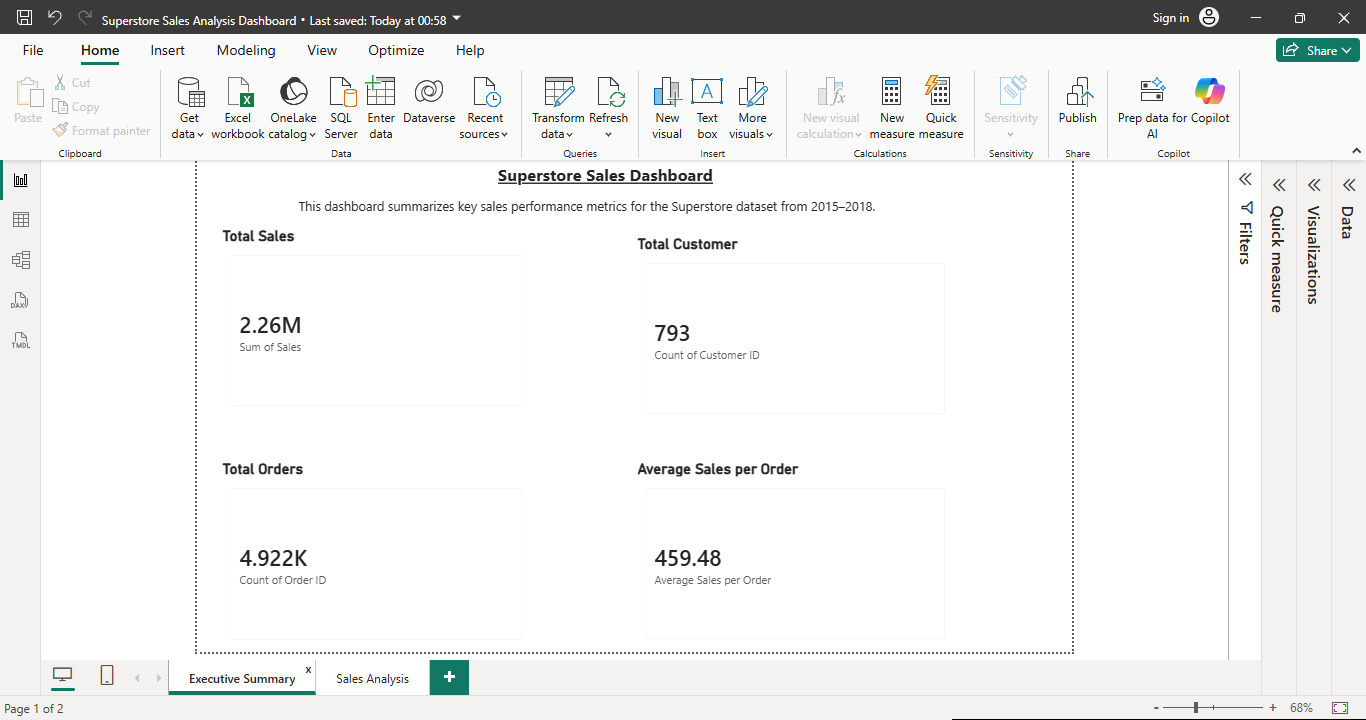

What the dashboard file says about the page in this screenshot:
{"tool":"powerbi","page":{"name":"Executive Summary ","canvas":[1280,720],"ordinal":0},"visuals":[{"type":"cardVisual","title":"Total Sales","fields":{"Data":["Sum(CleanData superstore_sales csv.Sales)"]},"box":[32.4,98.5,461.8,279.4],"z":0},{"type":"cardVisual","title":"Total Orders","fields":{"Data":["Count(CleanData superstore_sales csv.Order ID)"]},"box":[32.4,439.7,461.8,280.9],"z":1000},{"type":"cardVisual","title":"Total Customer","fields":{"Data":["Count(CleanData superstore_sales csv.Customer ID)"]},"box":[639.7,110.3,472.1,279.4],"z":2000},{"type":"cardVisual","title":"Average Sales per Order","fields":{"Data":["CleanData superstore_sales csv.Average Sales per Order"]},"box":[639.7,439.7,472.1,279.4],"z":3000},{"type":"textbox","box":[144.1,0,908.8,98.5],"z":4000}]}

Visuals, with their boxes on the page's 1280x720 design canvas (x1, y1, x2, y2). These are canvas units, not pixel positions in the 1366x720 screenshot, which may show the page scaled, cropped or inside an application window:
"Total Sales" cardVisual: left=32, top=98, right=494, bottom=378
"Total Orders" cardVisual: left=32, top=440, right=494, bottom=721
"Total Customer" cardVisual: left=640, top=110, right=1112, bottom=390
"Average Sales per Order" cardVisual: left=640, top=440, right=1112, bottom=719
textbox: left=144, top=0, right=1053, bottom=98
